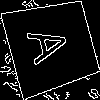A: (26, 21, 80, 67)
